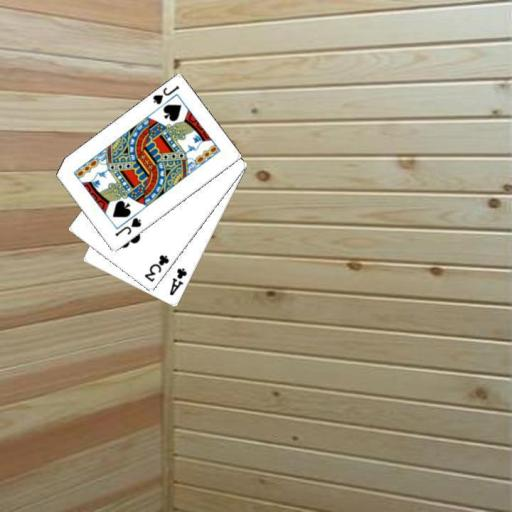card-corner: (140, 252, 170, 284), (149, 82, 181, 106), (112, 215, 143, 238), (166, 265, 188, 297)
